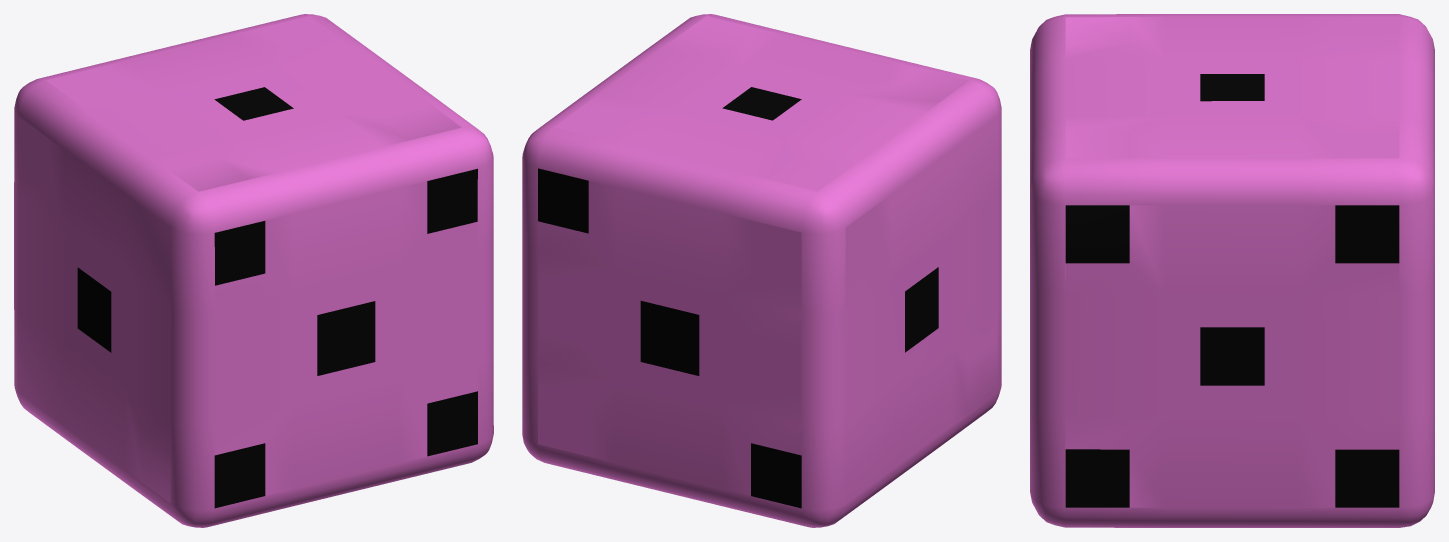
File: Dice_ver19.fbx
The picture shows the model from 3 angles, left to right: view 1: azimuth 30°, elevation 25°; view 2: azimuth 150°, elevation 25°; view 3: azimuth 270°, elevation 25°; orthographic projection. The views are drawn at different scales.
Parts seen in each view (by area): view 1: Even.001; view 2: Even.001; view 3: Even.001.
Boxes of the visible parts, x1,y1,x2,y2 form: Even.001: (14,14,493,527); Even.001: (522,14,1001,527); Even.001: (1030,14,1434,527).
Size of the model in its own units: 200 by 200 by 200.
